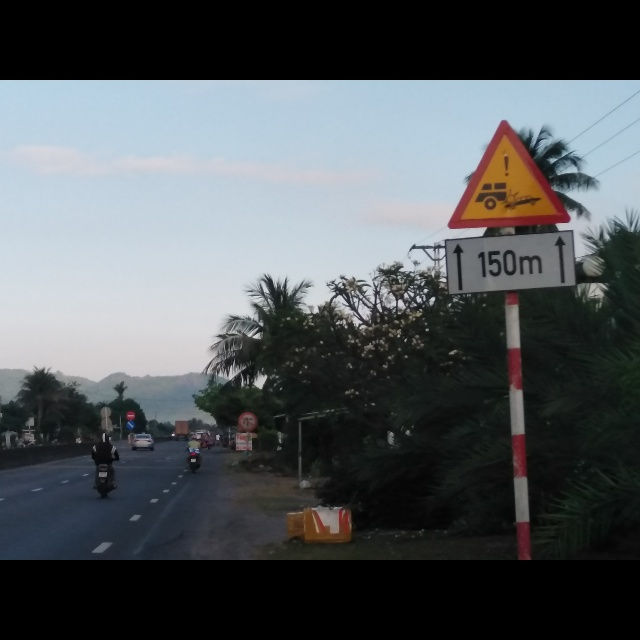Đoạn đường hay xảy ra tai nạn: (448, 117, 571, 231)
